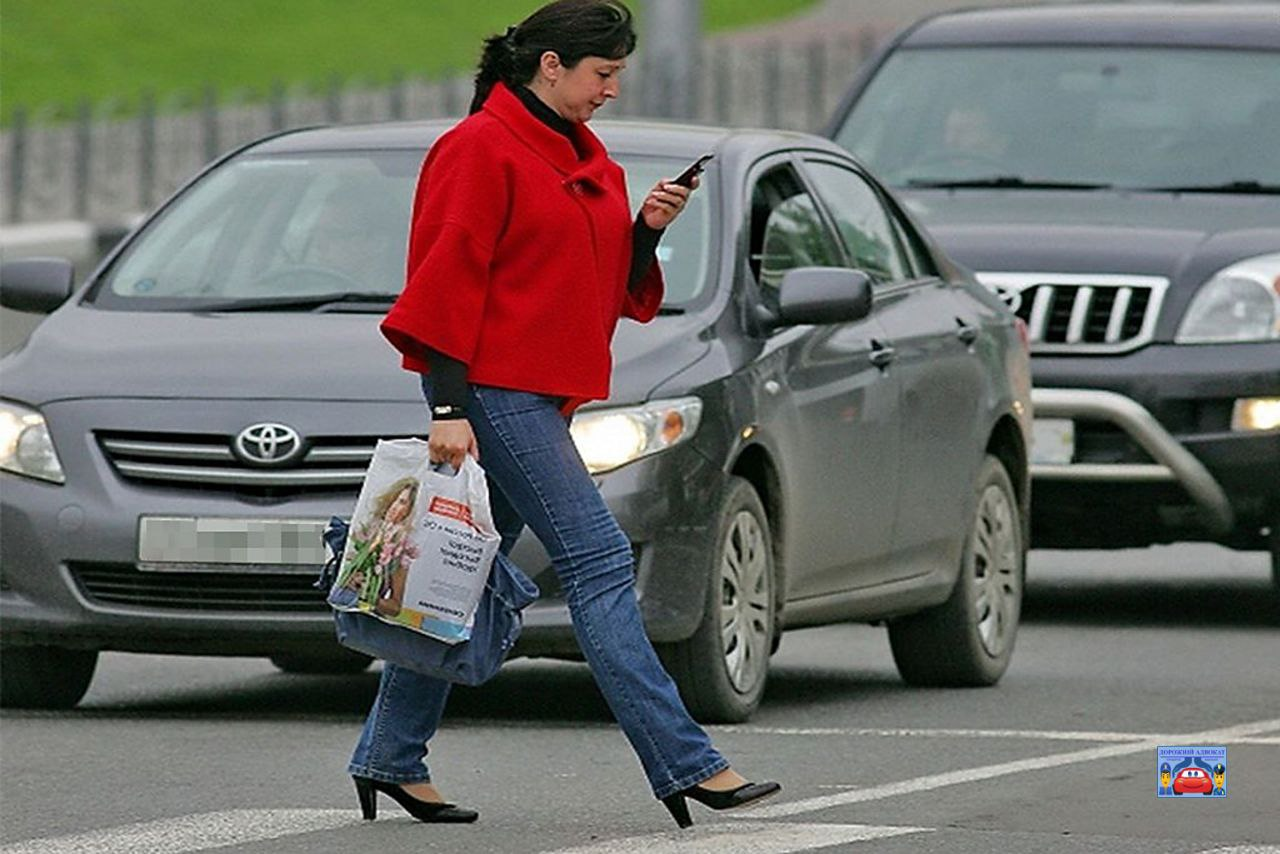sombie: (316, 4, 795, 845)
